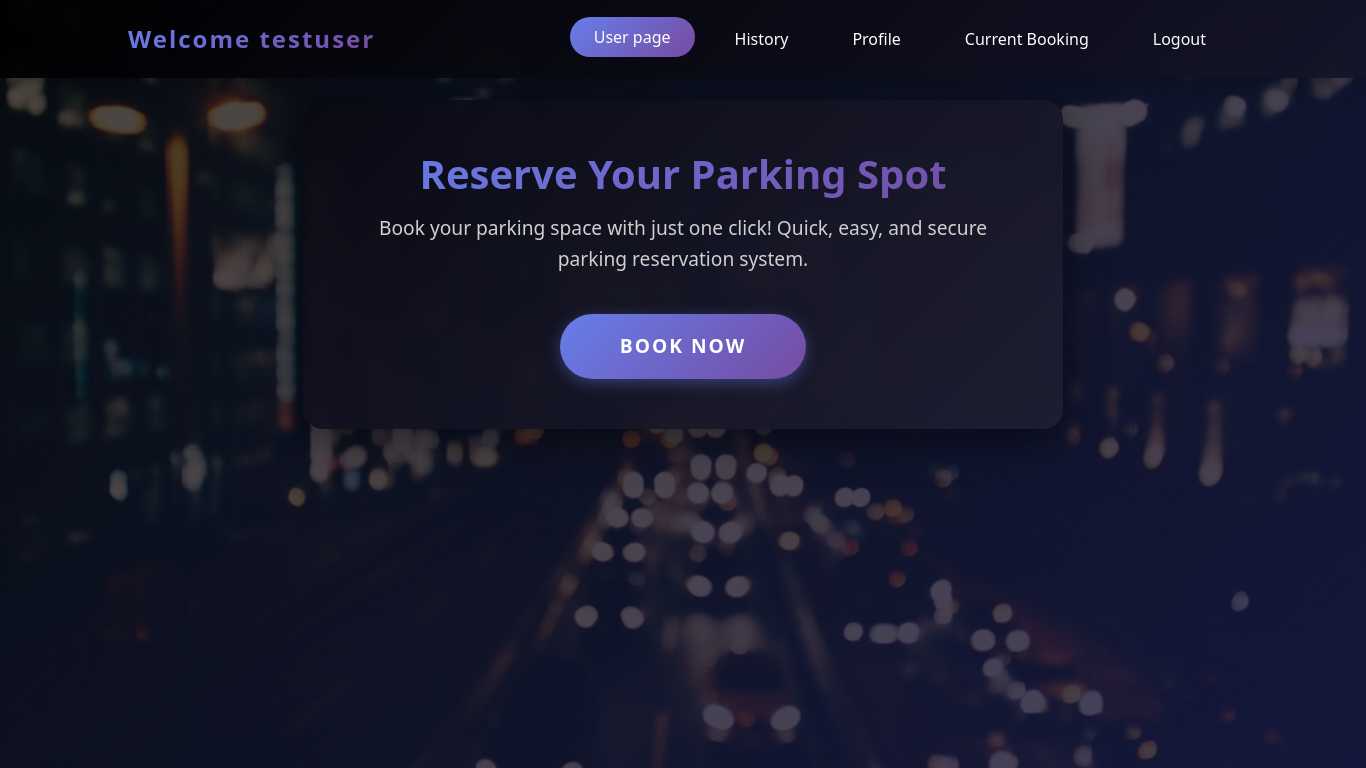
Dashboard › should show error when credit is insufficient
Click the button "BOOK NOW" at [683, 347], box x1=560 y1=314 x2=806 y2=379
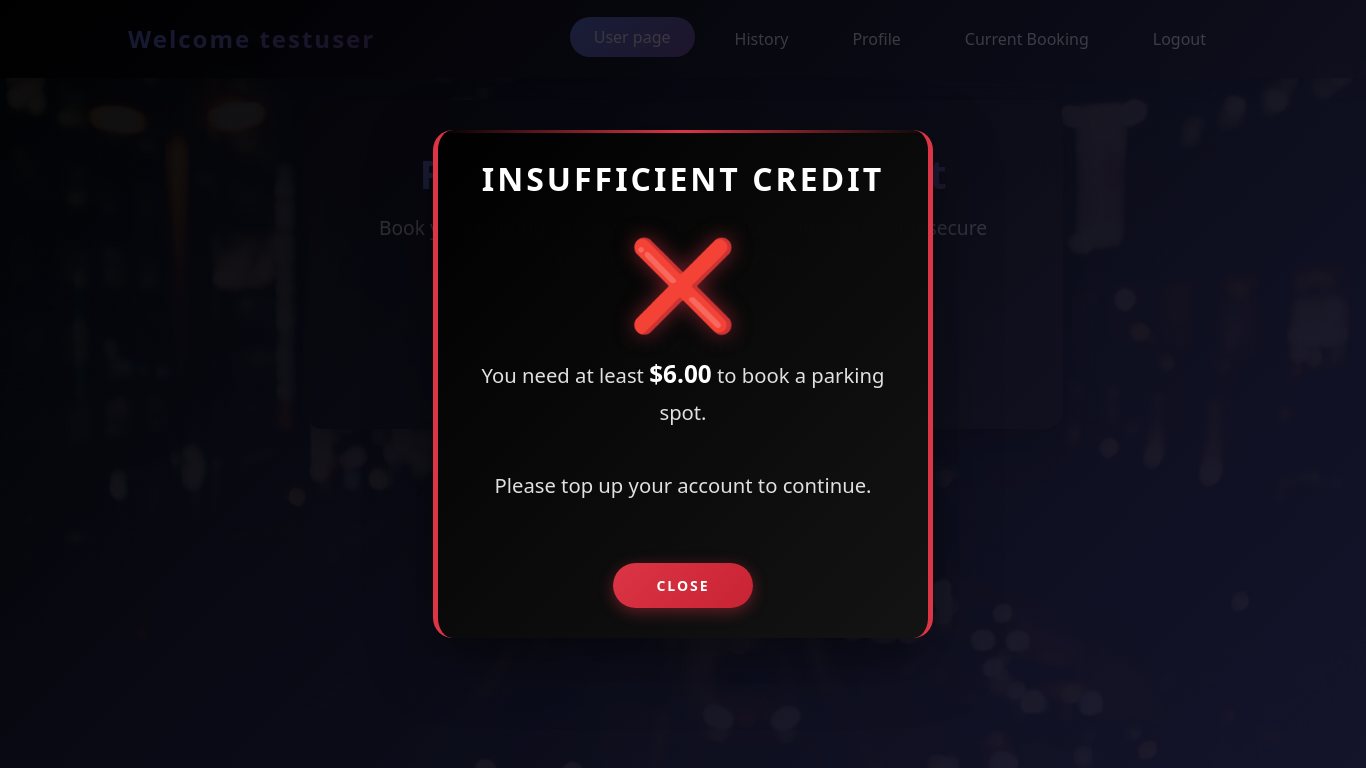
Result: the heading "Insufficient Credit" is shown at x1=478 y1=160 x2=888 y2=198
